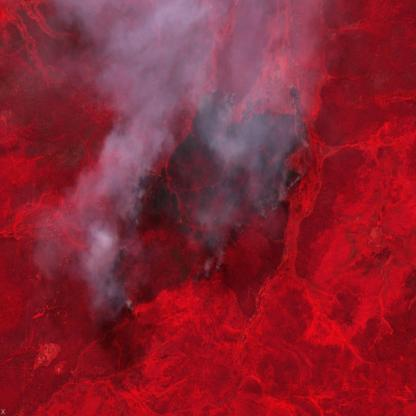fire: (102, 82, 312, 314)
